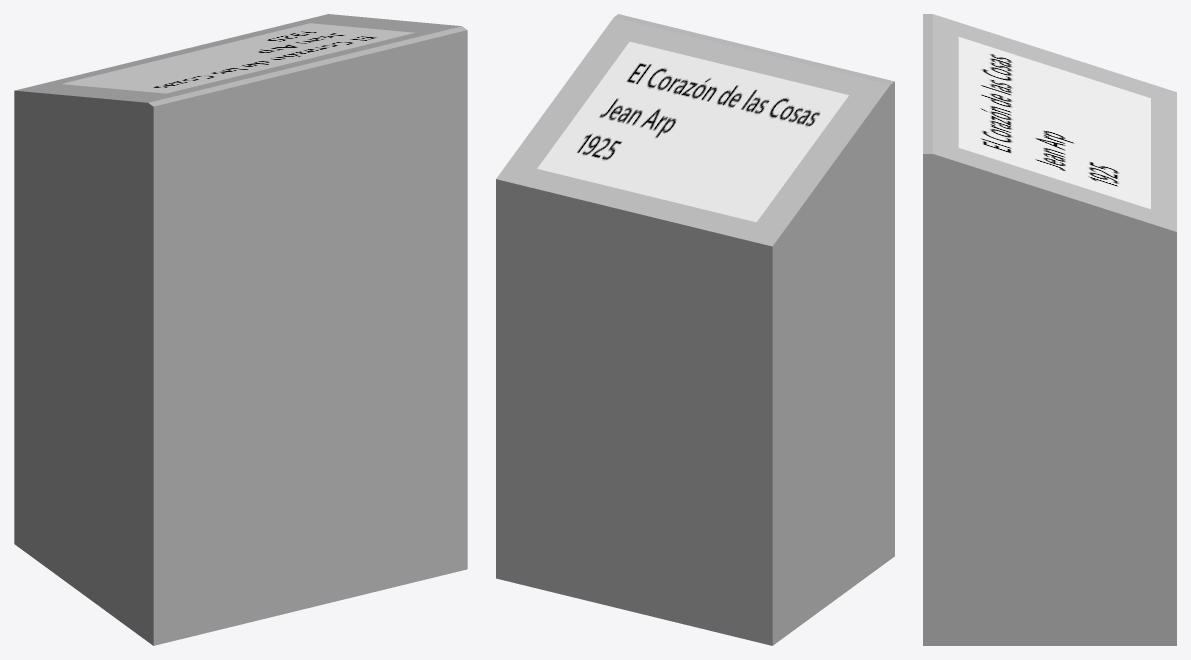
File: cont9.obj
3 renders of one model, left to right at view 1: azimuth 30°, elevation 25°; view 2: azimuth 150°, elevation 25°; view 3: azimuth 270°, elevation 25°, orthographic. The views are drawn at different scales.
Parts seen in each view (by area): view 1: Cube.030; view 2: Cube.030; view 3: Cube.030.
Boxes of the visible parts, <box> form: Cube.030: <box>14,14,467,645</box>; Cube.030: <box>496,14,894,645</box>; Cube.030: <box>923,14,1176,645</box>.
Size of the model in its own units: 0.652 by 1.07 by 0.5.
